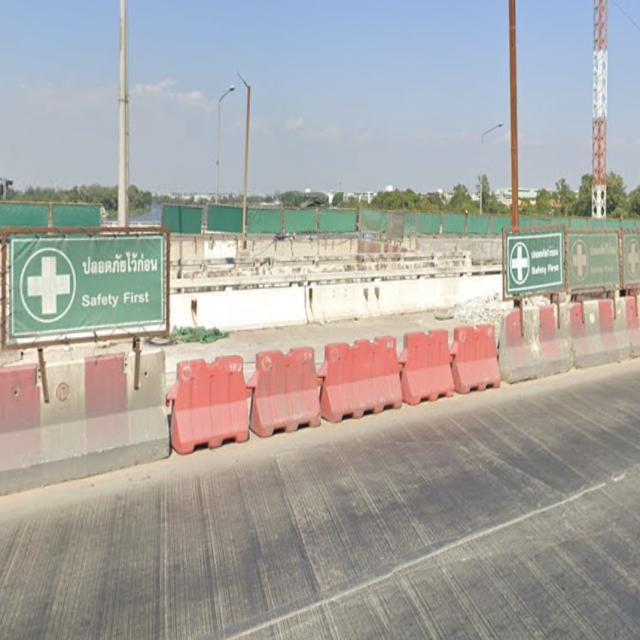fallen_object: (2, 355, 187, 476), (467, 299, 640, 386), (310, 327, 421, 428), (383, 315, 507, 399), (166, 353, 256, 450), (243, 326, 320, 435)
